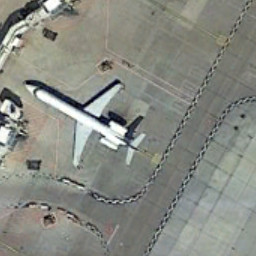Airplane: (13, 66, 152, 178)
